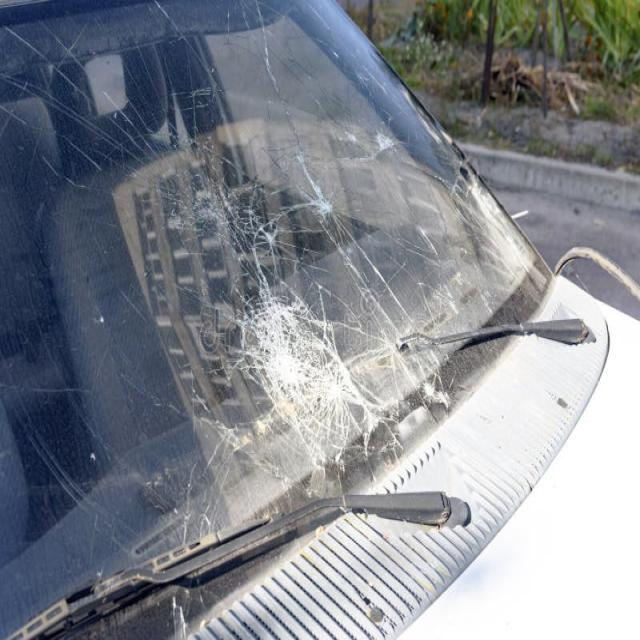crack: (136, 0, 481, 563)
